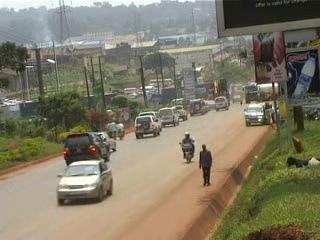Car: (54, 156, 114, 208), (59, 129, 111, 169), (132, 113, 160, 140), (94, 128, 119, 154), (187, 96, 207, 118)
Motorcycle: (178, 128, 197, 164), (114, 116, 126, 141)
